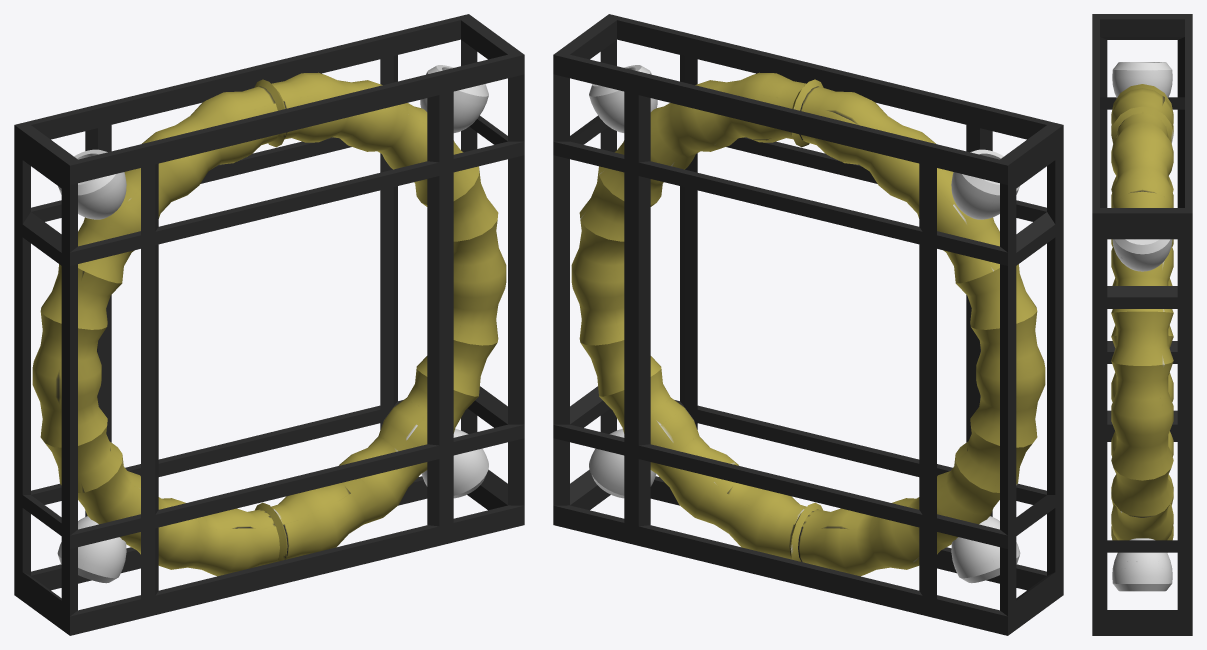
Rendered from gate.obj.
The picture shows the model from 3 angles, left to right: view 1: azimuth 30°, elevation 25°; view 2: azimuth 150°, elevation 25°; view 3: azimuth 270°, elevation 25°; orthographic projection. The views are drawn at different scales.
Visible parts, largest first — view 1: Torus.001; view 2: Torus.001; view 3: Torus.001.
Part boxes in pixels (x1,y1,x2,y2): Torus.001: (14, 14, 524, 635); Torus.001: (553, 14, 1063, 635); Torus.001: (1092, 14, 1192, 635).
Bounding box in the file's own units: 49.96 × 49.97 × 10.39.
